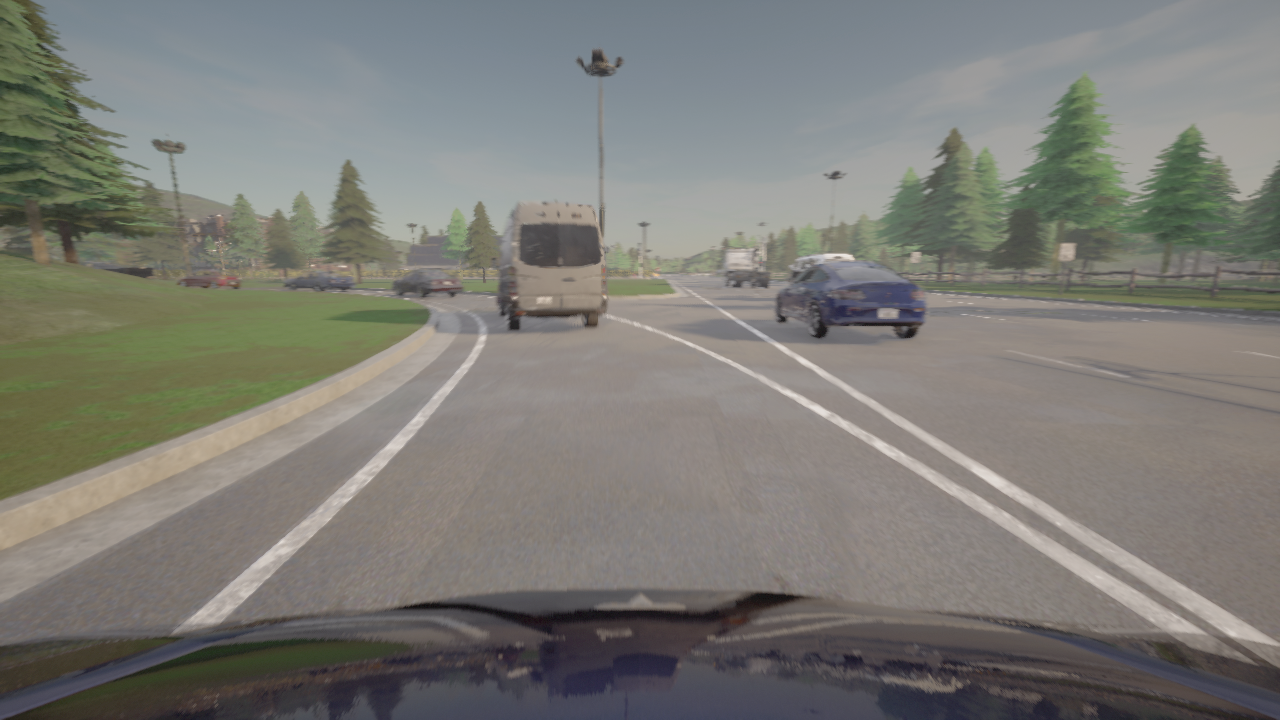cyclist: (0, 588, 1279, 719), (491, 201, 607, 330), (775, 261, 927, 338), (391, 270, 462, 297), (721, 248, 769, 287), (790, 253, 854, 279), (283, 270, 355, 291), (78, 261, 154, 279), (176, 270, 240, 289)
